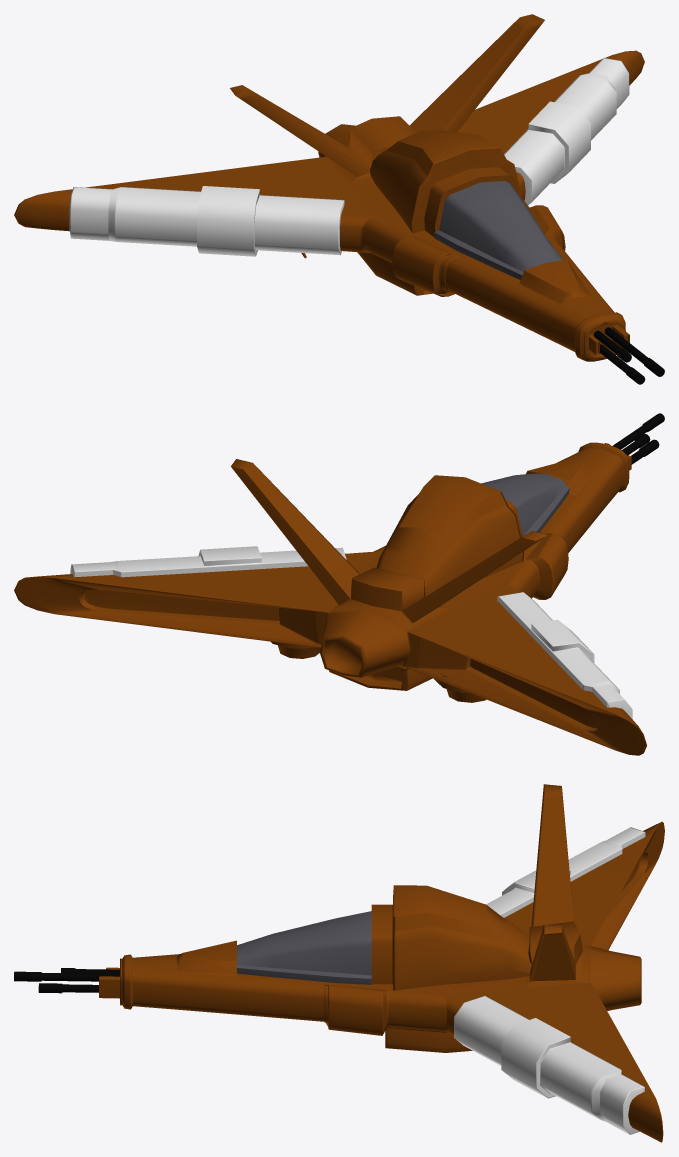
The model's file is ENT3320_Fast Enemy #4.fbx.
3 renders of one model, top to bottom at view 1: azimuth 30°, elevation 25°; view 2: azimuth 150°, elevation 25°; view 3: azimuth 270°, elevation 25°, orthographic. The views are drawn at different scales.
Parts seen in each view (by area): view 1: pCube7, pCube13, pCube3, pCube12, pCube1, pCylinder4; view 2: pCube7, pCube3, pCube13, pCube12, pCube1, pCylinder4; view 3: pCube7, pCube3, pCube12, pCube1, pCube13, pCylinder4, pCylinder6.
Boxes of the visible parts, x1,y1,x2,y2 form: pCube7: [14, 14, 644, 361]; pCube13: [69, 186, 344, 256]; pCube3: [370, 130, 522, 237]; pCube12: [504, 58, 629, 205]; pCube1: [434, 181, 562, 279]; pCylinder4: [604, 327, 664, 376]; pCube7: [14, 442, 646, 755]; pCube3: [376, 475, 523, 596]; pCube13: [497, 592, 632, 718]; pCube12: [70, 546, 346, 577]; pCube1: [481, 473, 569, 536]; pCylinder4: [613, 413, 664, 449]; pCube7: [120, 784, 664, 1142]; pCube3: [371, 885, 531, 990]; pCube12: [454, 996, 644, 1134]; pCube1: [237, 911, 371, 984]; pCube13: [486, 827, 645, 917]; pCylinder4: [14, 971, 119, 981]; pCylinder6: [38, 983, 98, 993].
Bounding box in the file's own units: 3148 × 822 × 2857.
